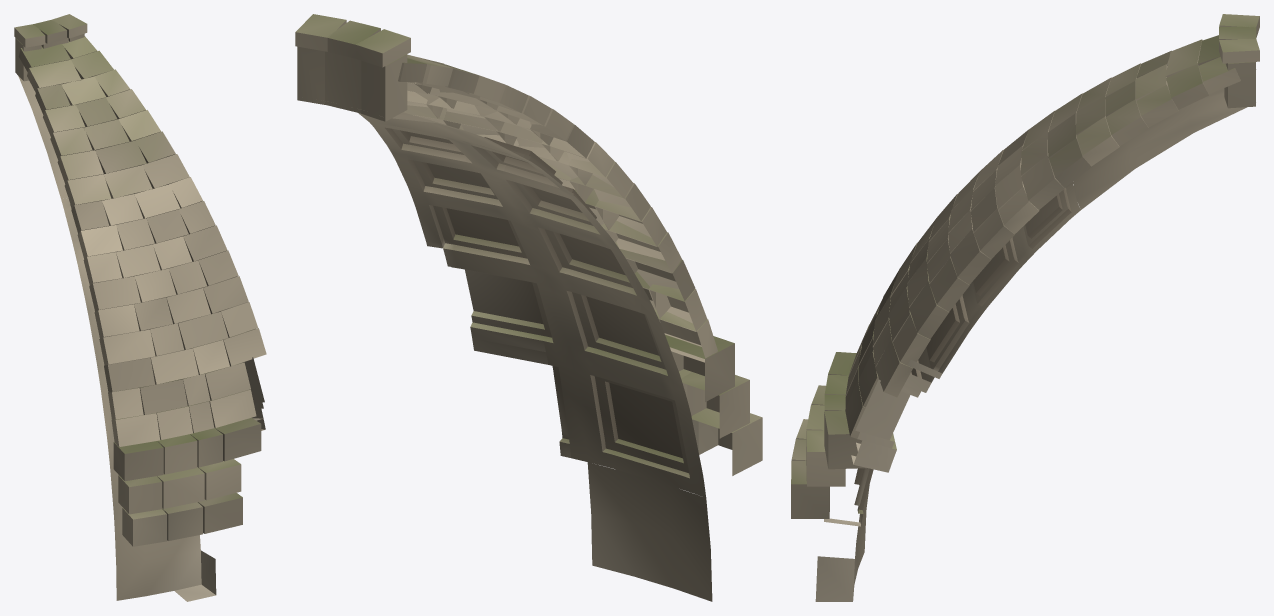
File: dome_shell_bm2_mid.glb
3 views of the same model, side by side, from view 1: azimuth 30°, elevation 25°; view 2: azimuth 150°, elevation 25°; view 3: azimuth 270°, elevation 25° (orthographic). The views are drawn at different scales.
Visible parts, largest first — view 1: dome_shell_bm2_mid; view 2: dome_shell_bm2_mid; view 3: dome_shell_bm2_mid.
Part boxes in pixels (x1=…): dome_shell_bm2_mid: x1=14, y1=14, x2=266, y2=601; dome_shell_bm2_mid: x1=295, y1=14, x2=762, y2=601; dome_shell_bm2_mid: x1=791, y1=14, x2=1259, y2=601.
Bounding box in the file's own units: 18.84 × 48.72 × 36.39.
